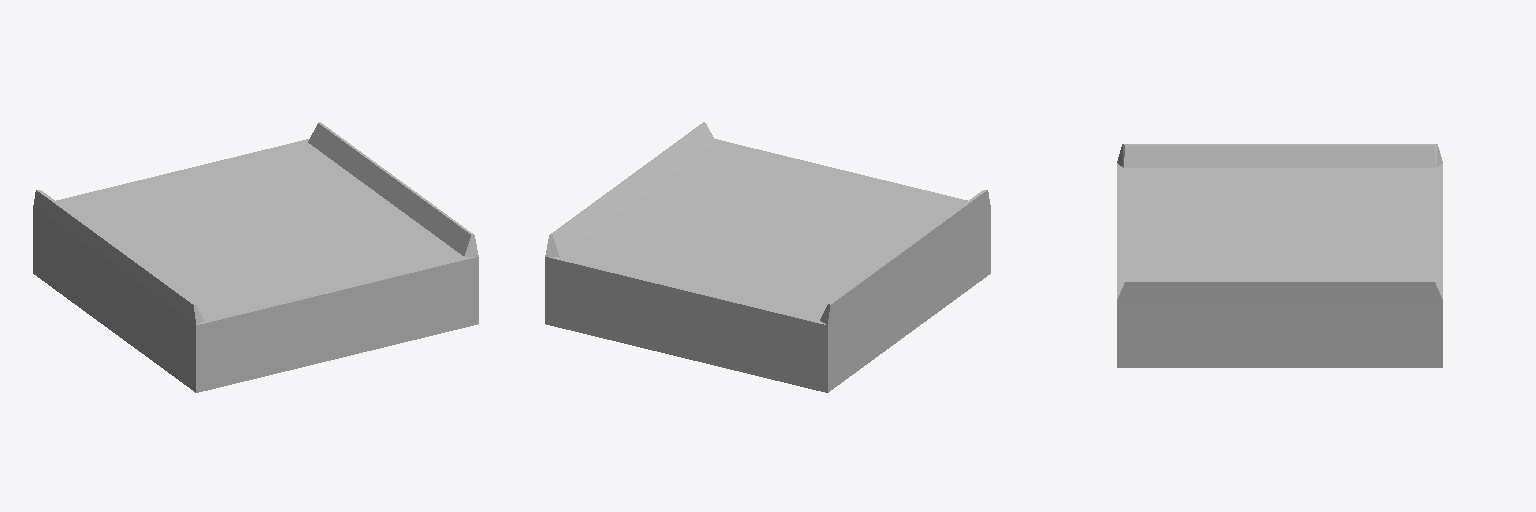
Rendered from 2x2Fluorescent-Recessed.obj.
The picture shows the model from 3 angles: view 1: azimuth 30°, elevation 25°; view 2: azimuth 150°, elevation 25°; view 3: azimuth 270°, elevation 25°; orthographic projection.
Parts seen in each view (by area): view 1: 2x2Fluorescent-Recessed.obj; view 2: 2x2Fluorescent-Recessed.obj; view 3: 2x2Fluorescent-Recessed.obj.
Boxes of the visible parts, <box> form: 2x2Fluorescent-Recessed.obj: <box>33,122,478,392</box>; 2x2Fluorescent-Recessed.obj: <box>545,122,990,392</box>; 2x2Fluorescent-Recessed.obj: <box>1117,144,1442,367</box>.
Bounding box in the file's own units: 0.6101 × 0.1778 × 0.6096.